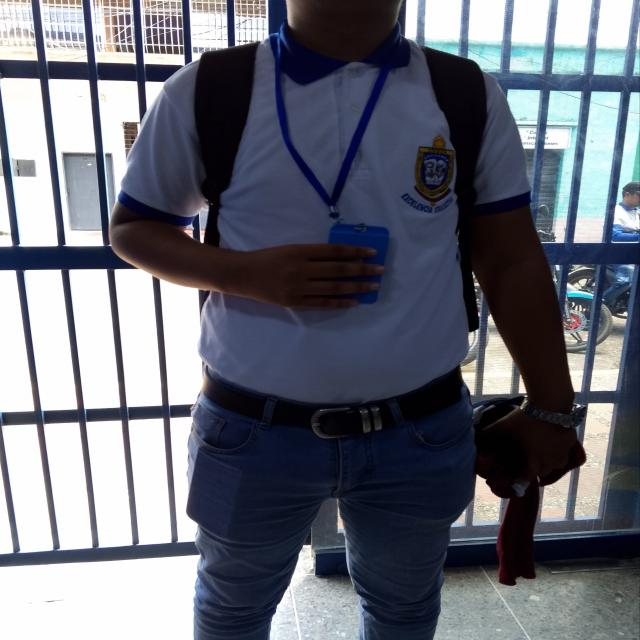carnet: (328, 223, 390, 304)
uniforme_superior: (115, 21, 533, 404)
